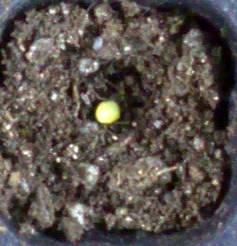chilli seed: (94, 100, 120, 124)
